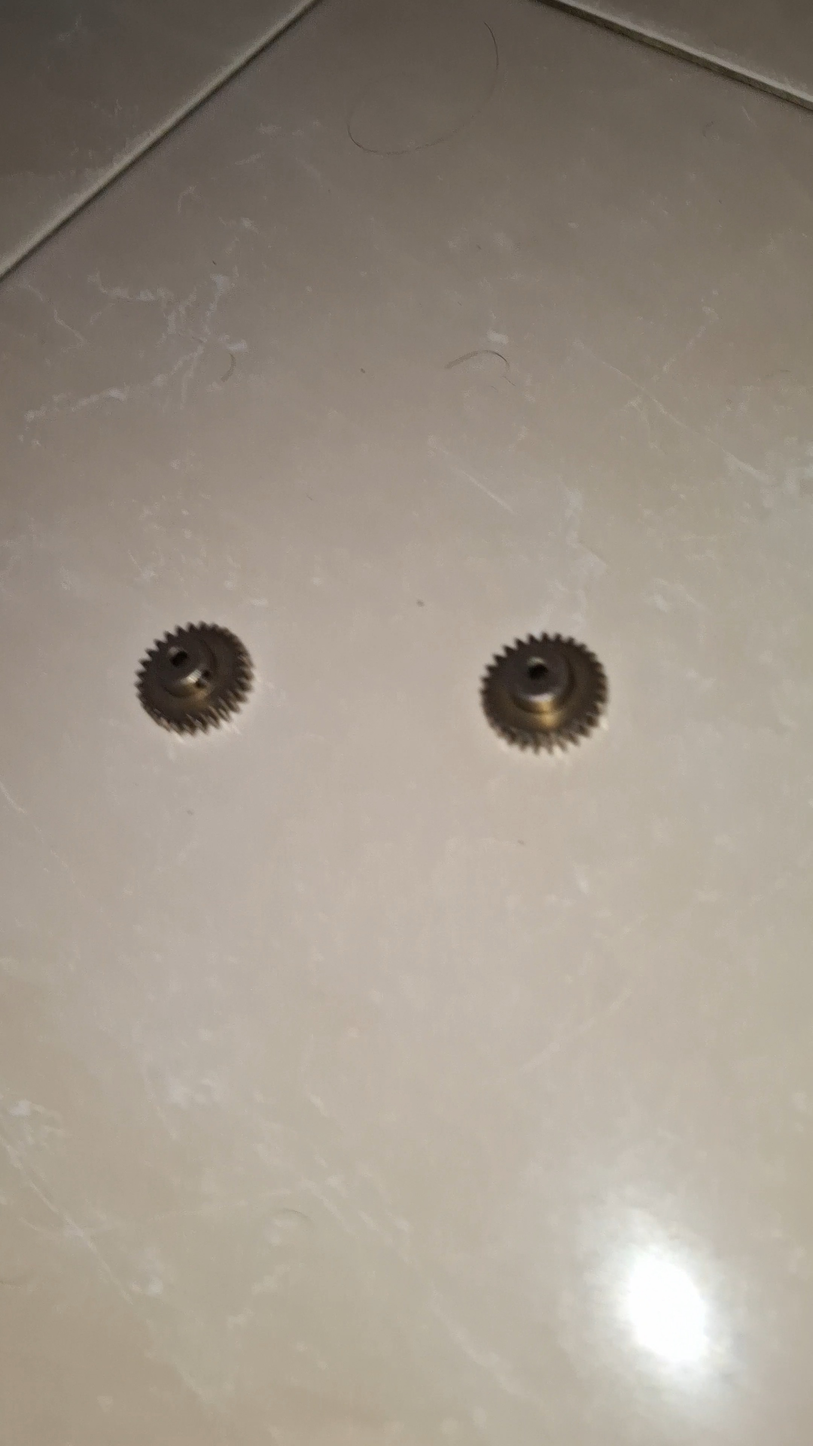spur gear: (499, 645, 623, 761), (156, 636, 270, 746)
